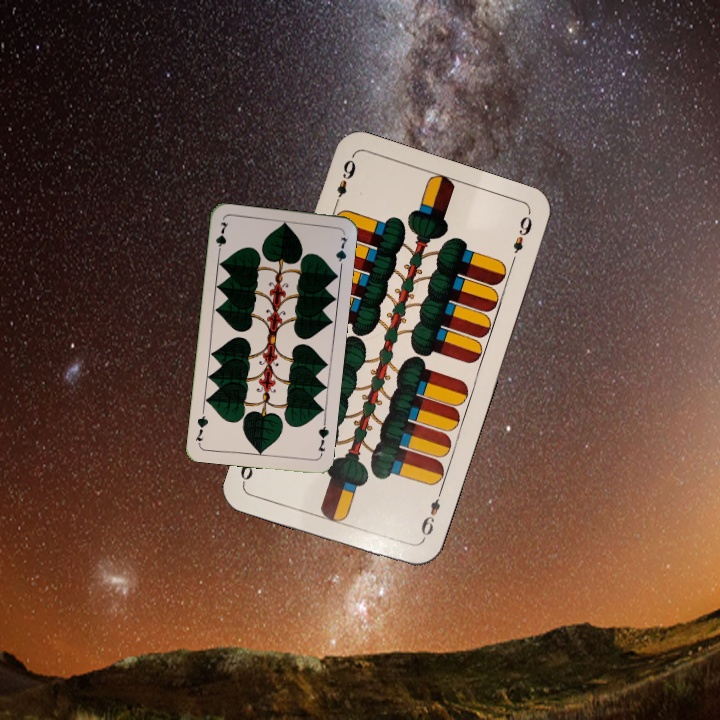E9: (330, 153, 359, 210), (416, 488, 444, 545)
G7: (212, 218, 231, 258), (313, 418, 331, 458)
